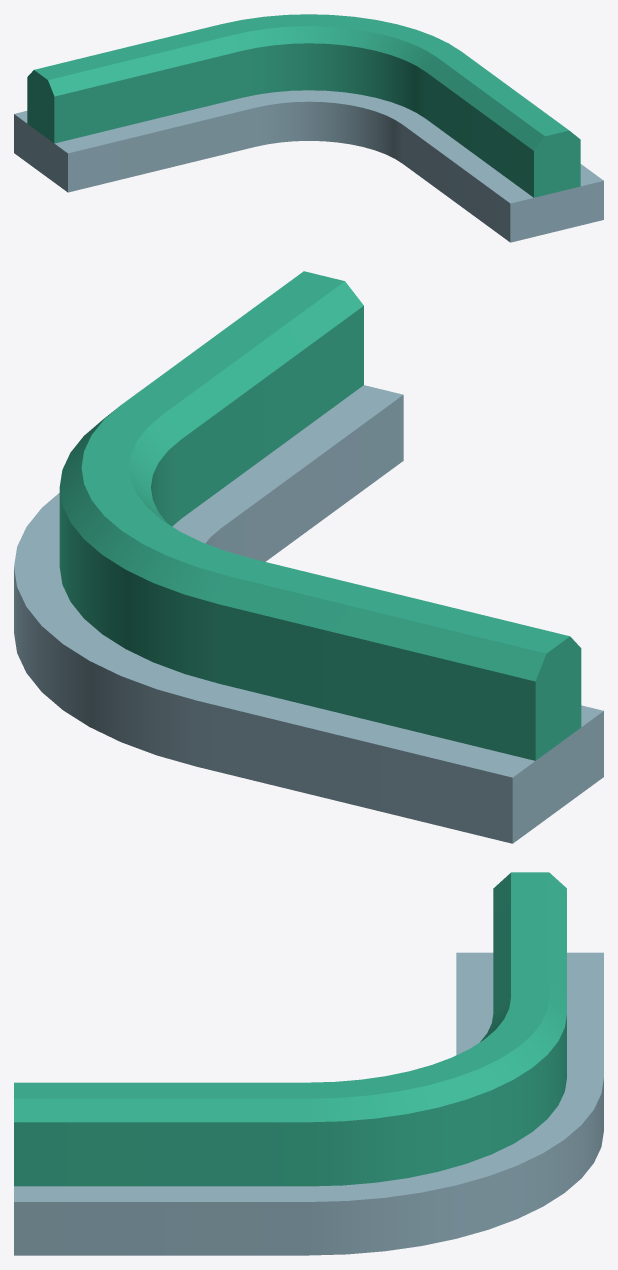
Rendered from hedgeCurved.obj.
3 renders of one model, top to bottom at view 1: azimuth 30°, elevation 25°; view 2: azimuth 150°, elevation 25°; view 3: azimuth 270°, elevation 25°, orthographic. The views are drawn at different scales.
Visible parts, largest first — view 1: hedgeCurved; view 2: hedgeCurved; view 3: hedgeCurved.
Part boxes in pixels (box(x1,y1,x2,y2)): hedgeCurved: box(14, 14, 603, 242); hedgeCurved: box(14, 271, 603, 843); hedgeCurved: box(14, 872, 603, 1255).
Bounding box in the file's own units: 1 × 0.25 × 1.
